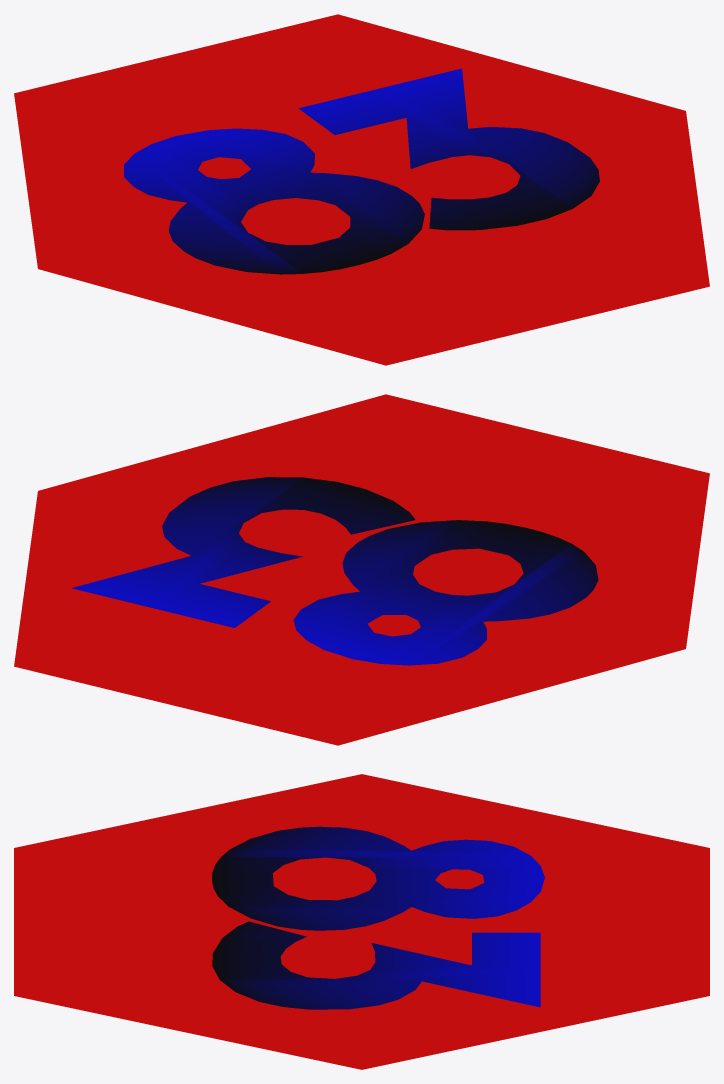
Rendered from SM_Number_83.fbx.
3 views of the same model, one above another, from view 1: azimuth 30°, elevation 25°; view 2: azimuth 150°, elevation 25°; view 3: azimuth 270°, elevation 25° (orthographic). The views are drawn at different scales.
Parts seen in each view (by area): view 1: FBX_OUT; view 2: FBX_OUT; view 3: FBX_OUT.
Boxes of the visible parts, x1=… form: FBX_OUT: x1=14, y1=14, x2=709, y2=365; FBX_OUT: x1=14, y1=394, x2=709, y2=745; FBX_OUT: x1=14, y1=774, x2=709, y2=1069.
Bounding box in the file's own units: 50 × 0.2917 × 49.71.
